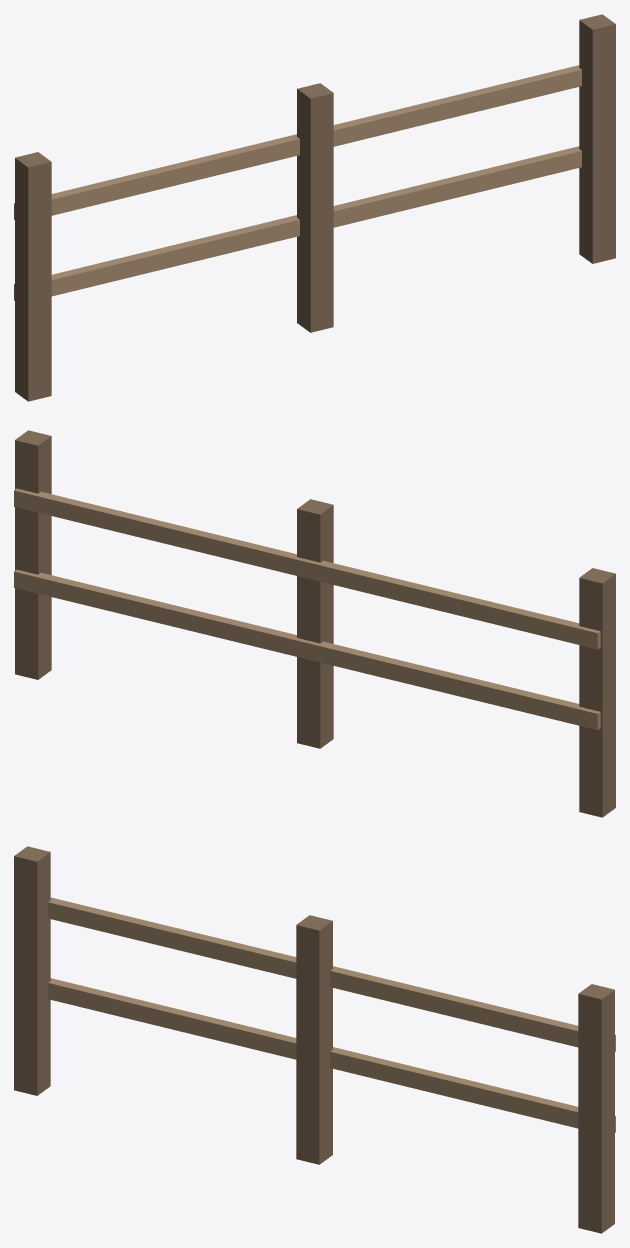
Rendered from fence.glb.
3 views of the same model, one above another, from view 1: azimuth 30°, elevation 25°; view 2: azimuth 150°, elevation 25°; view 3: azimuth 330°, elevation 25° (orthographic).
Visible parts, largest first — view 1: fence; view 2: fence; view 3: fence.
Part boxes in pixels (x1,y1,x2,y2): fence: (14,14,615,401); fence: (14,430,615,817); fence: (14,846,615,1233).
Bounding box in the file's own units: 3.02 × 1.15 × 0.1449.
